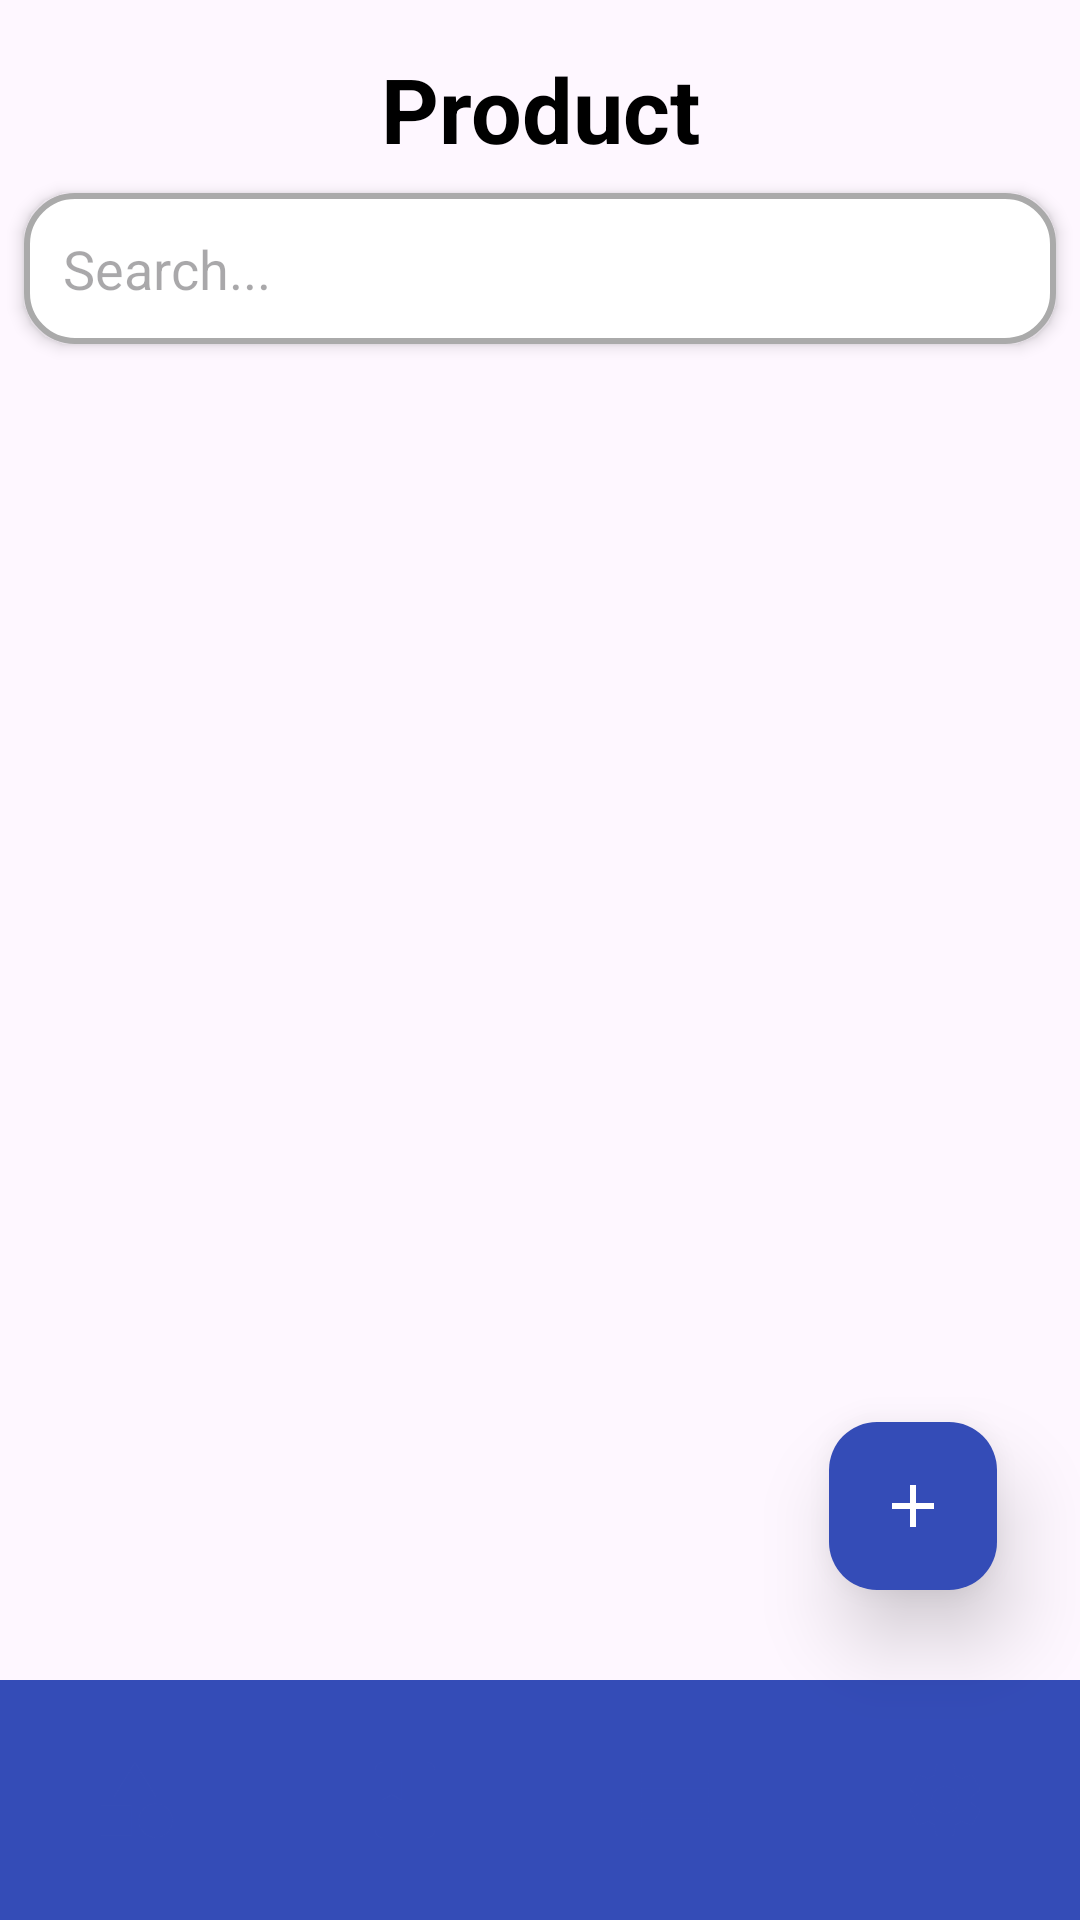

Icon click points for this 1080px x 1920px phone screenshot, format point (x, y):
add: point (913, 1506)
